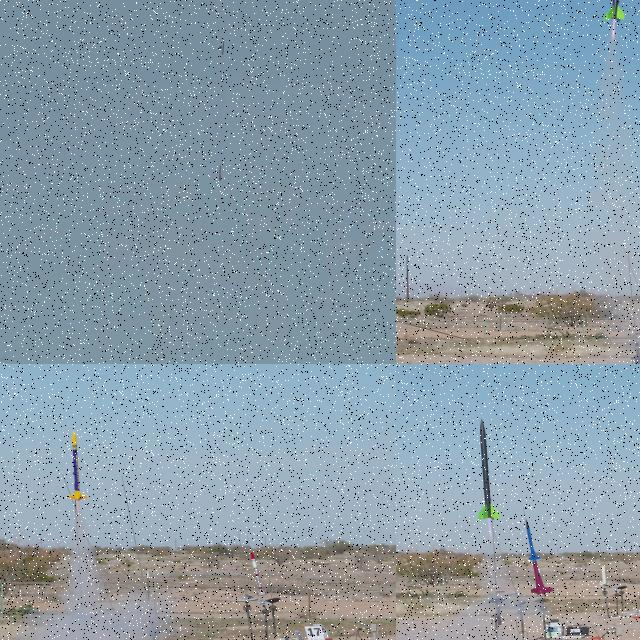Rocket: (476, 418, 502, 520), (525, 519, 554, 595), (68, 431, 88, 502), (250, 551, 267, 596), (602, 0, 626, 23), (598, 565, 610, 586), (218, 164, 222, 181)
